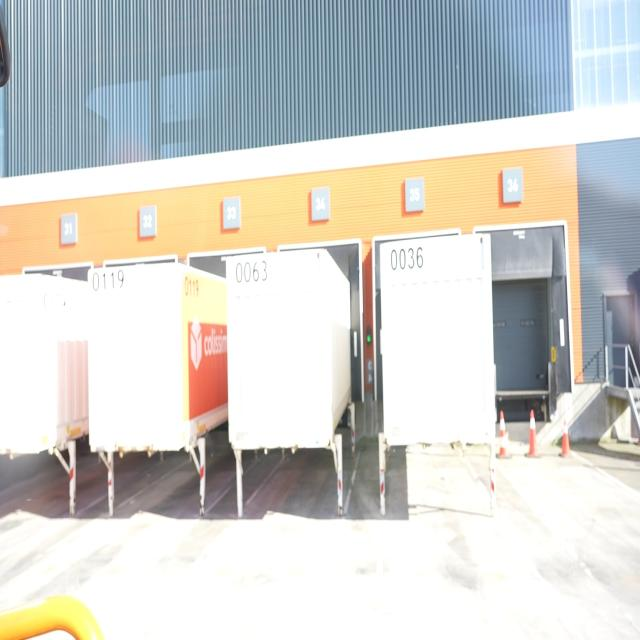Code: (233, 256, 269, 292), (391, 240, 425, 272), (92, 267, 125, 292), (182, 272, 201, 300)
